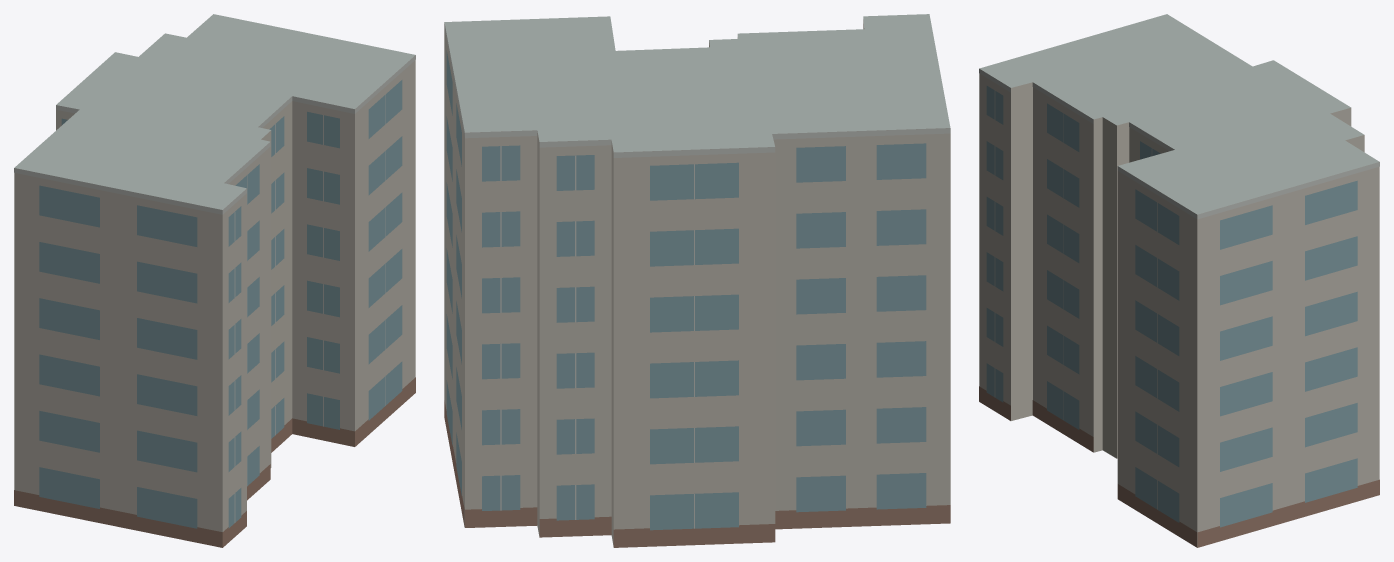
File: survey-upis-32579076.glb
The picture shows the model from 3 angles, left to right: view 1: azimuth 30°, elevation 25°; view 2: azimuth 150°, elevation 25°; view 3: azimuth 270°, elevation 25°; orthographic projection. The views are drawn at different scales.
Visible parts, largest first — view 1: survey-upis-32579076.tmp; view 2: survey-upis-32579076.tmp; view 3: survey-upis-32579076.tmp.
Part boxes in pixels (bbox=[...]): survey-upis-32579076.tmp: bbox=[14, 14, 415, 547]; survey-upis-32579076.tmp: bbox=[444, 14, 950, 547]; survey-upis-32579076.tmp: bbox=[979, 14, 1379, 547].
Bounding box in the file's own units: 22.1 × 17.1 × 18.64.
